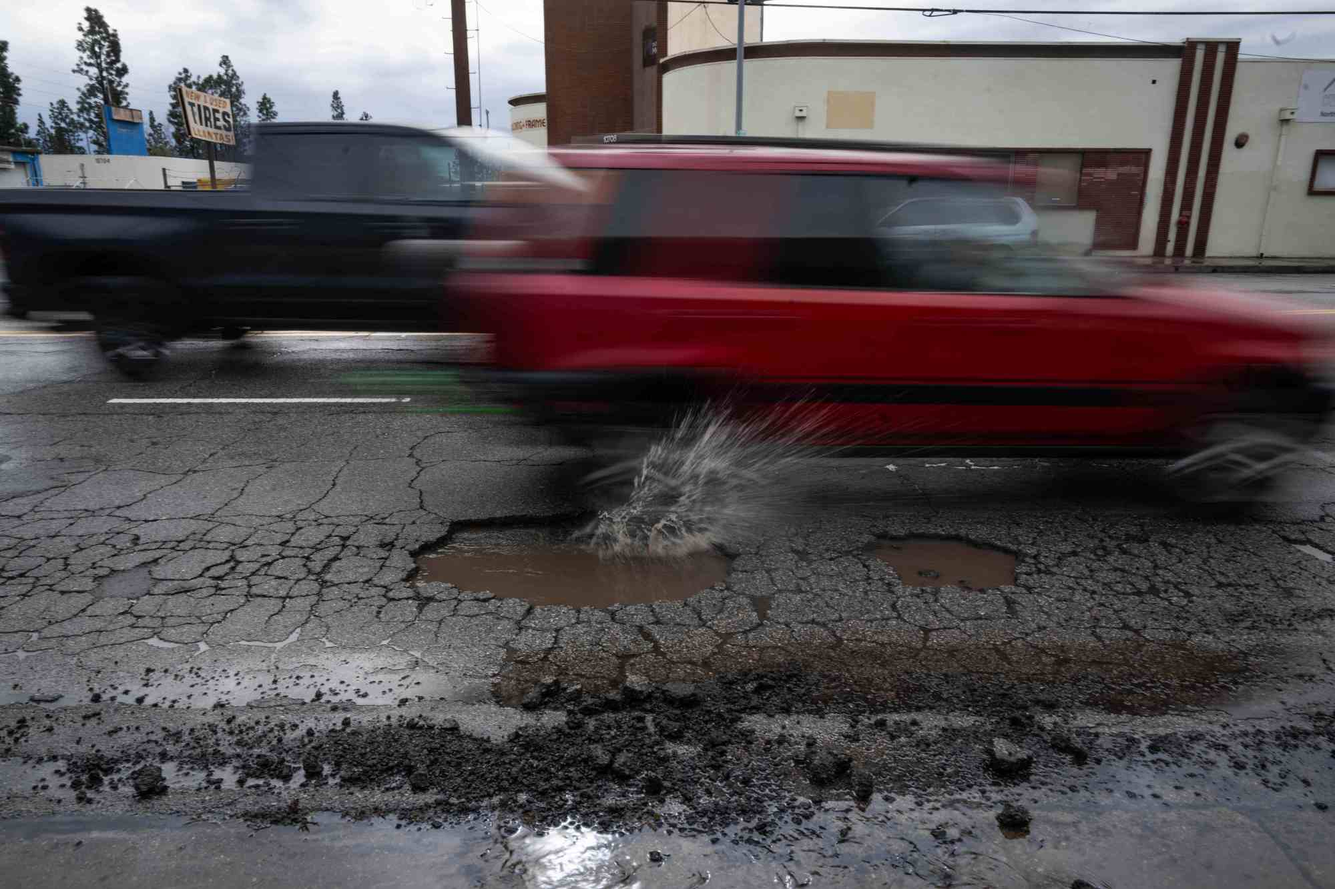Car: (364, 489, 762, 638), (810, 484, 1093, 630)
